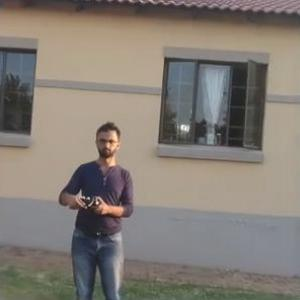follow: (54, 118, 140, 299)
